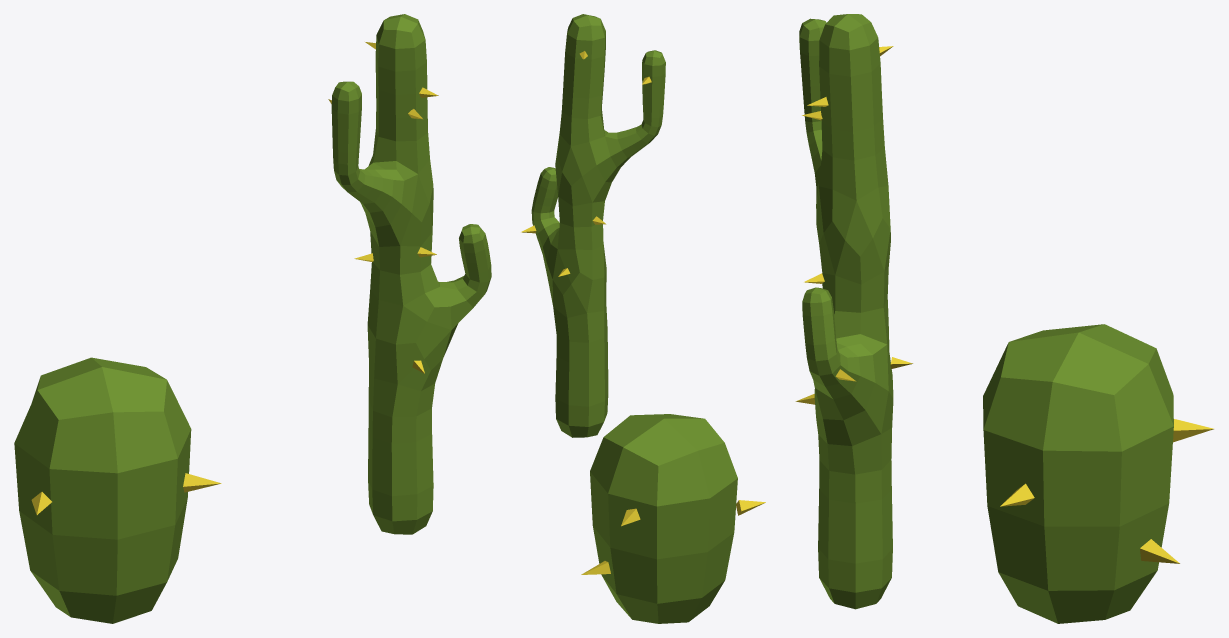
File: kaktuss.glb
The picture shows the model from 3 angles, left to right: view 1: azimuth 30°, elevation 25°; view 2: azimuth 150°, elevation 25°; view 3: azimuth 270°, elevation 25°; orthographic projection. The views are drawn at different scales.
Visible parts, largest first — view 1: Plane, Plane.002; view 2: Plane.002, Plane; view 3: Plane.002, Plane.
Boxes of the visible parts, <box> form: Plane: <box>331,14,491,534</box>; Plane.002: <box>14,357,191,623</box>; Plane.002: <box>590,414,737,623</box>; Plane: <box>531,14,665,437</box>; Plane.002: <box>983,324,1173,623</box>; Plane: <box>799,14,893,609</box>.
Bounding box in the file's own units: 0.2181 × 0.351 × 0.1877.
